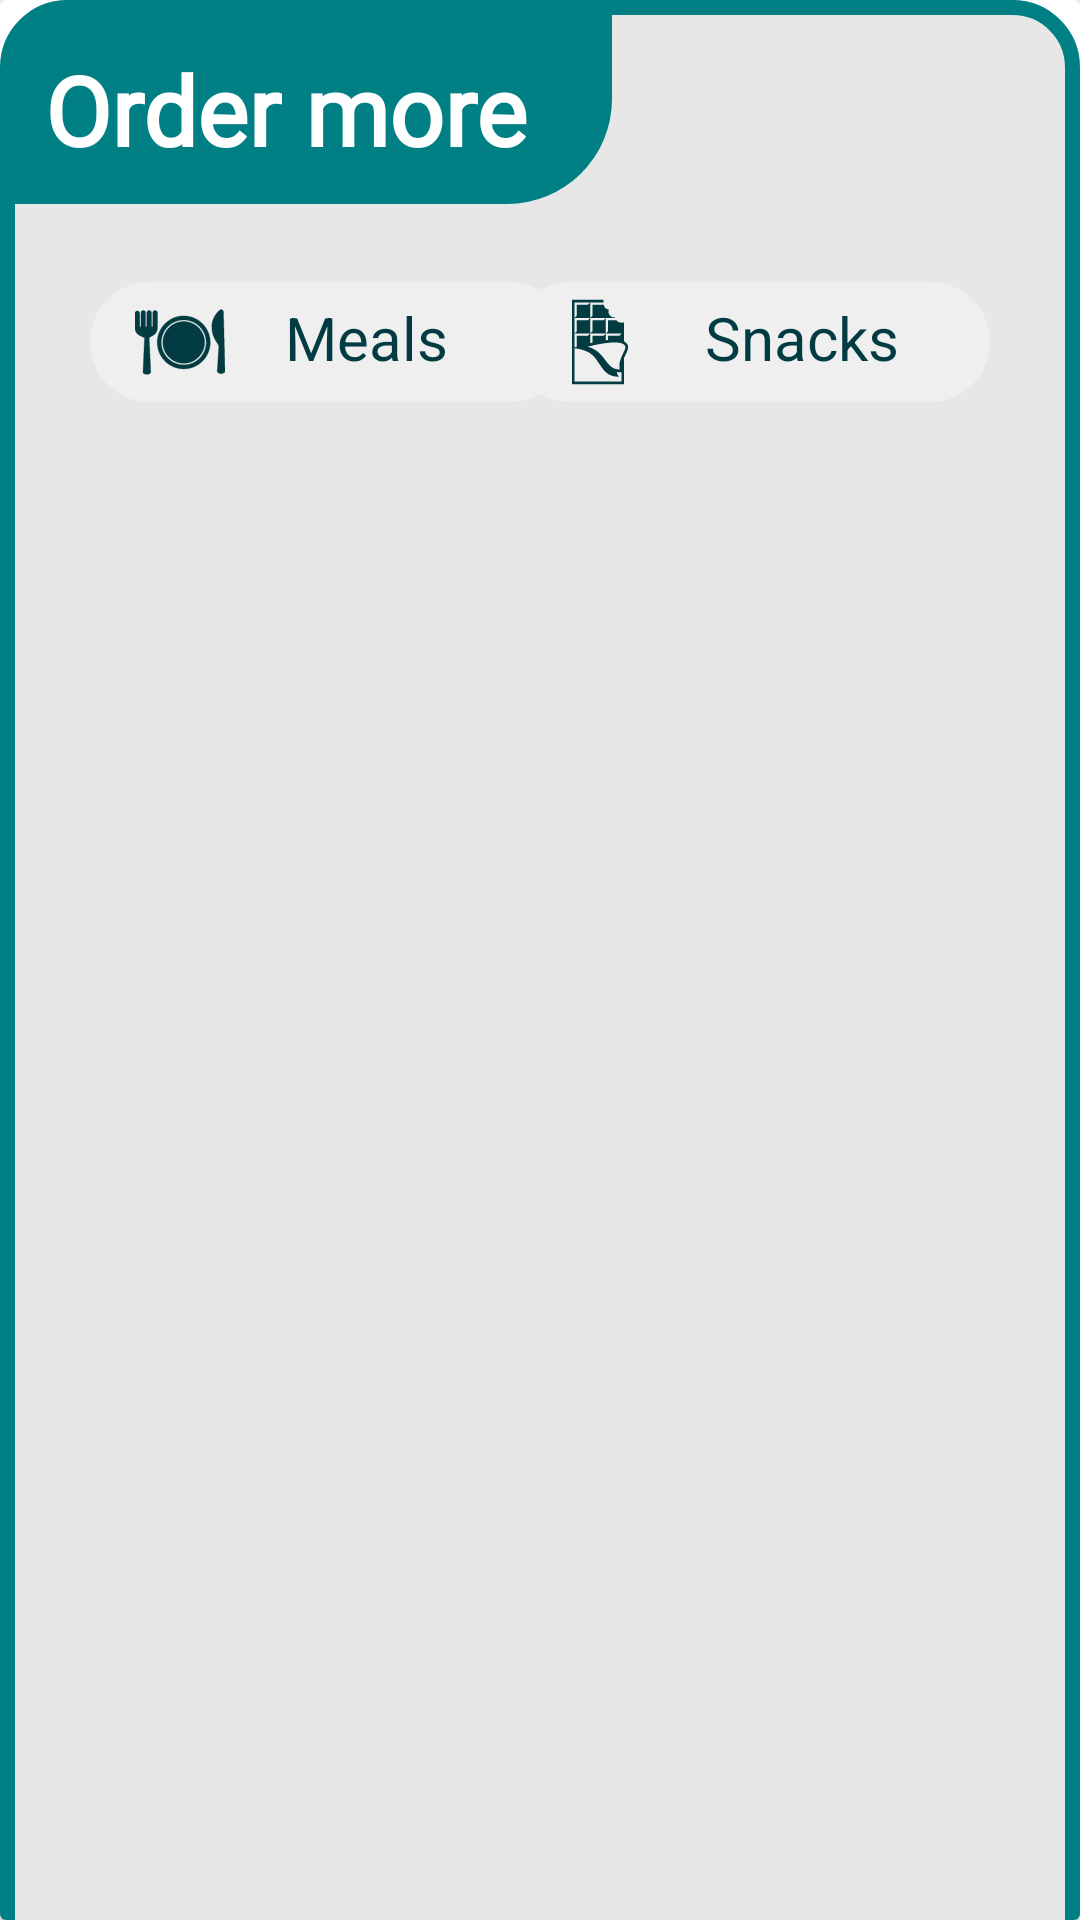

Screen size 1080px x 1920px. Icon name, then its center in pixels as (x,y):
chocogreensvg: (600,342)
